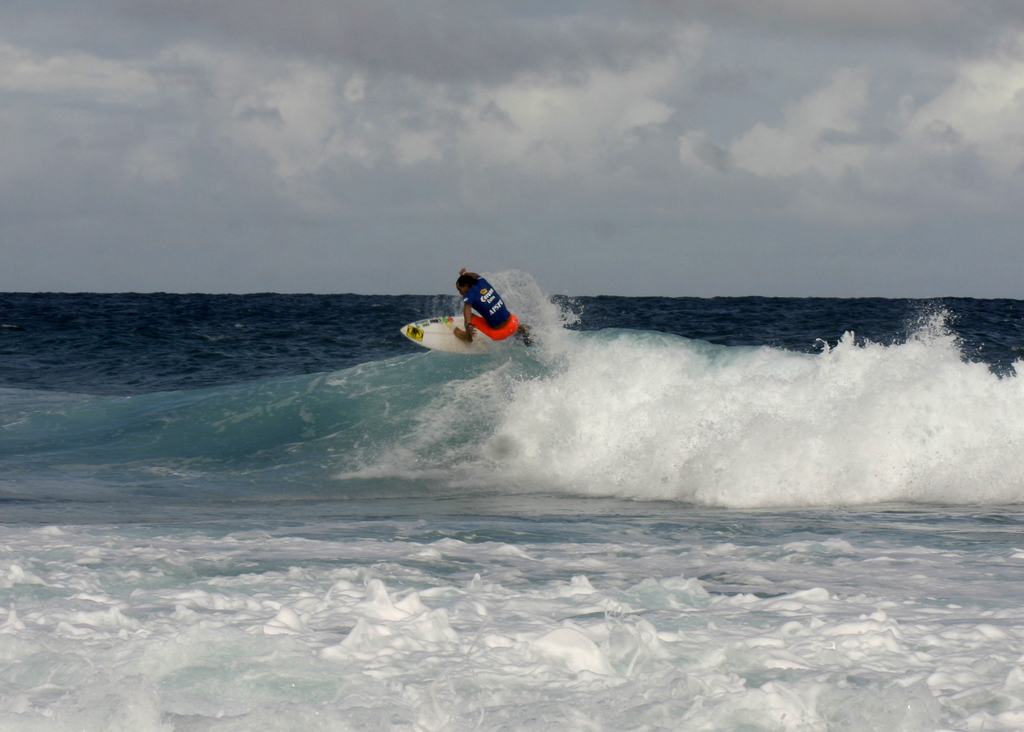Person: (452, 267, 535, 347)
